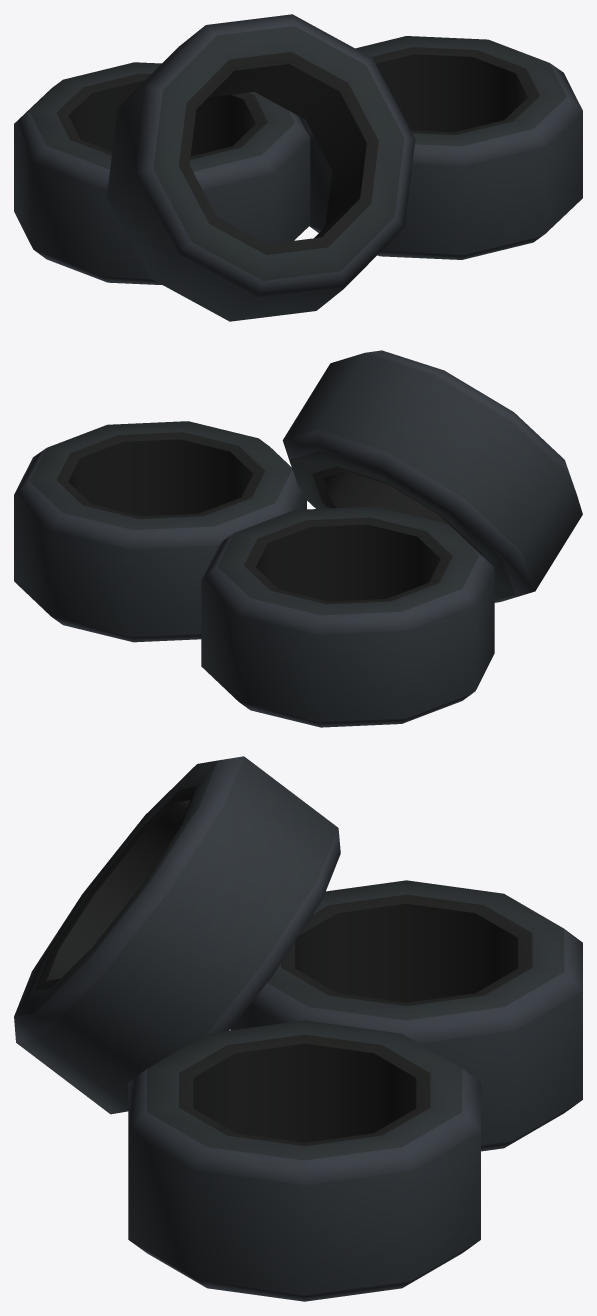
Rendered from tire_stack_01.fbx.
3 renders of one model, top to bottom at view 1: azimuth 30°, elevation 25°; view 2: azimuth 150°, elevation 25°; view 3: azimuth 270°, elevation 25°, orthographic. The views are drawn at different scales.
Parts seen in each view (by area): view 1: Tire_Stack_08; view 2: Tire_Stack_08; view 3: Tire_Stack_08.
Part boxes in pixels (<box>): Tire_Stack_08: <box>14,14,582,321</box>; Tire_Stack_08: <box>14,350,582,727</box>; Tire_Stack_08: <box>14,756,582,1301</box>.
Bounding box in the file's own units: 174 × 88.71 × 141.
